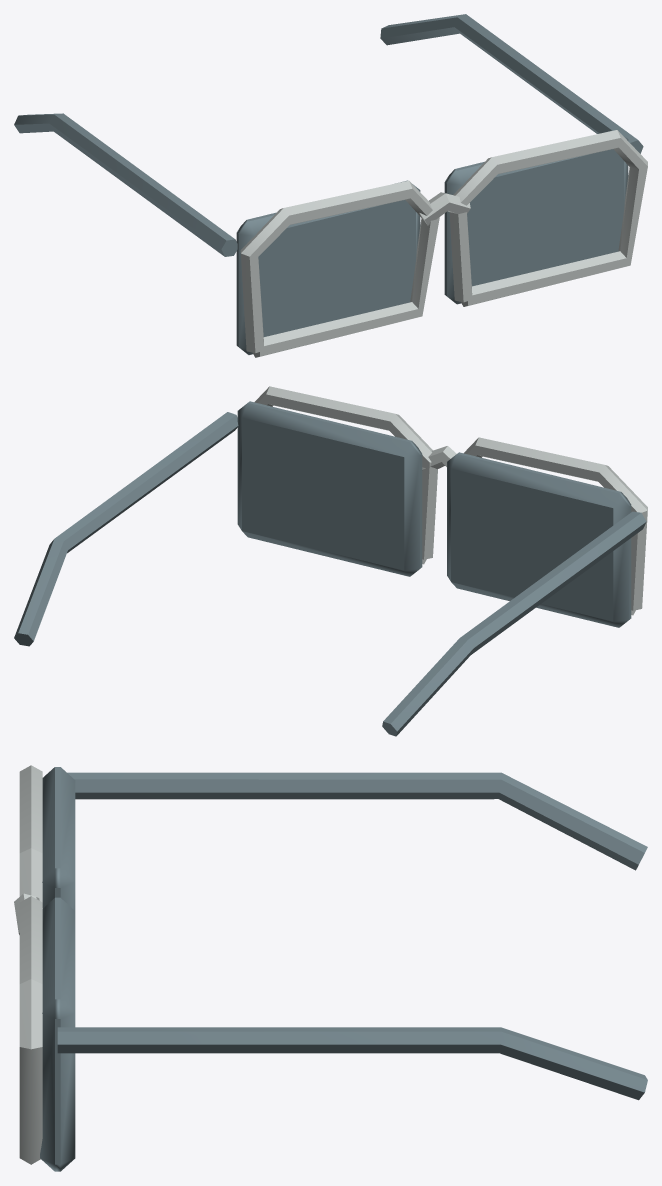
The model's file is sunglasses.glb.
3 renders of one model, top to bottom at view 1: azimuth 30°, elevation 25°; view 2: azimuth 150°, elevation 25°; view 3: azimuth 270°, elevation 25°, orthographic. The views are drawn at different scales.
Visible parts, largest first — view 1: lens, lens.001, lens_rim, lens_rim.001, temple_arm.001, temple_arm, bridge; view 2: lens.001, lens, temple_arm, temple_arm.001, lens_rim.001, lens_rim; view 3: temple_arm, temple_arm.001, lens.001, lens_rim.001, lens, lens_rim.
Part boxes in pixels (x1,y1,x2,y2): lens: [236, 180, 420, 354]; lens.001: [444, 129, 628, 304]; lens_rim: [240, 180, 439, 357]; lens_rim.001: [449, 130, 647, 306]; temple_arm.001: [380, 14, 643, 153]; temple_arm: [14, 113, 237, 256]; bridge: [419, 192, 470, 225]; lens.001: [237, 401, 422, 576]; lens: [447, 452, 631, 627]; temple_arm: [382, 511, 646, 736]; temple_arm.001: [14, 412, 238, 646]; lens_rim.001: [254, 386, 437, 564]; lens_rim: [464, 437, 647, 615]; temple_arm: [67, 772, 647, 870]; temple_arm.001: [57, 1027, 647, 1100]; lens.001: [40, 897, 75, 1171]; lens_rim.001: [19, 896, 42, 1164]; lens: [42, 767, 75, 910]; lens_rim: [19, 765, 42, 902].
Bounding box in the file's own units: 0.142 × 0.0475 × 0.1433.
